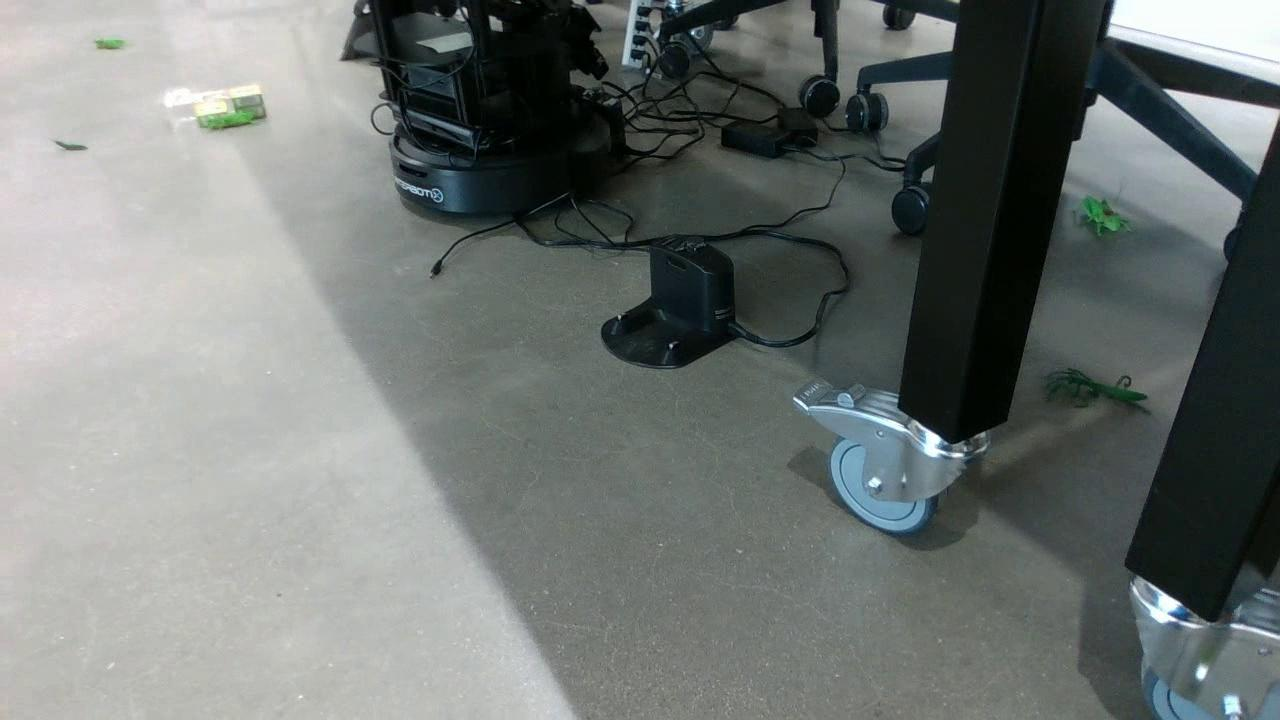grasshopper: (1072, 191, 1132, 246), (208, 114, 257, 130), (92, 38, 126, 51)
